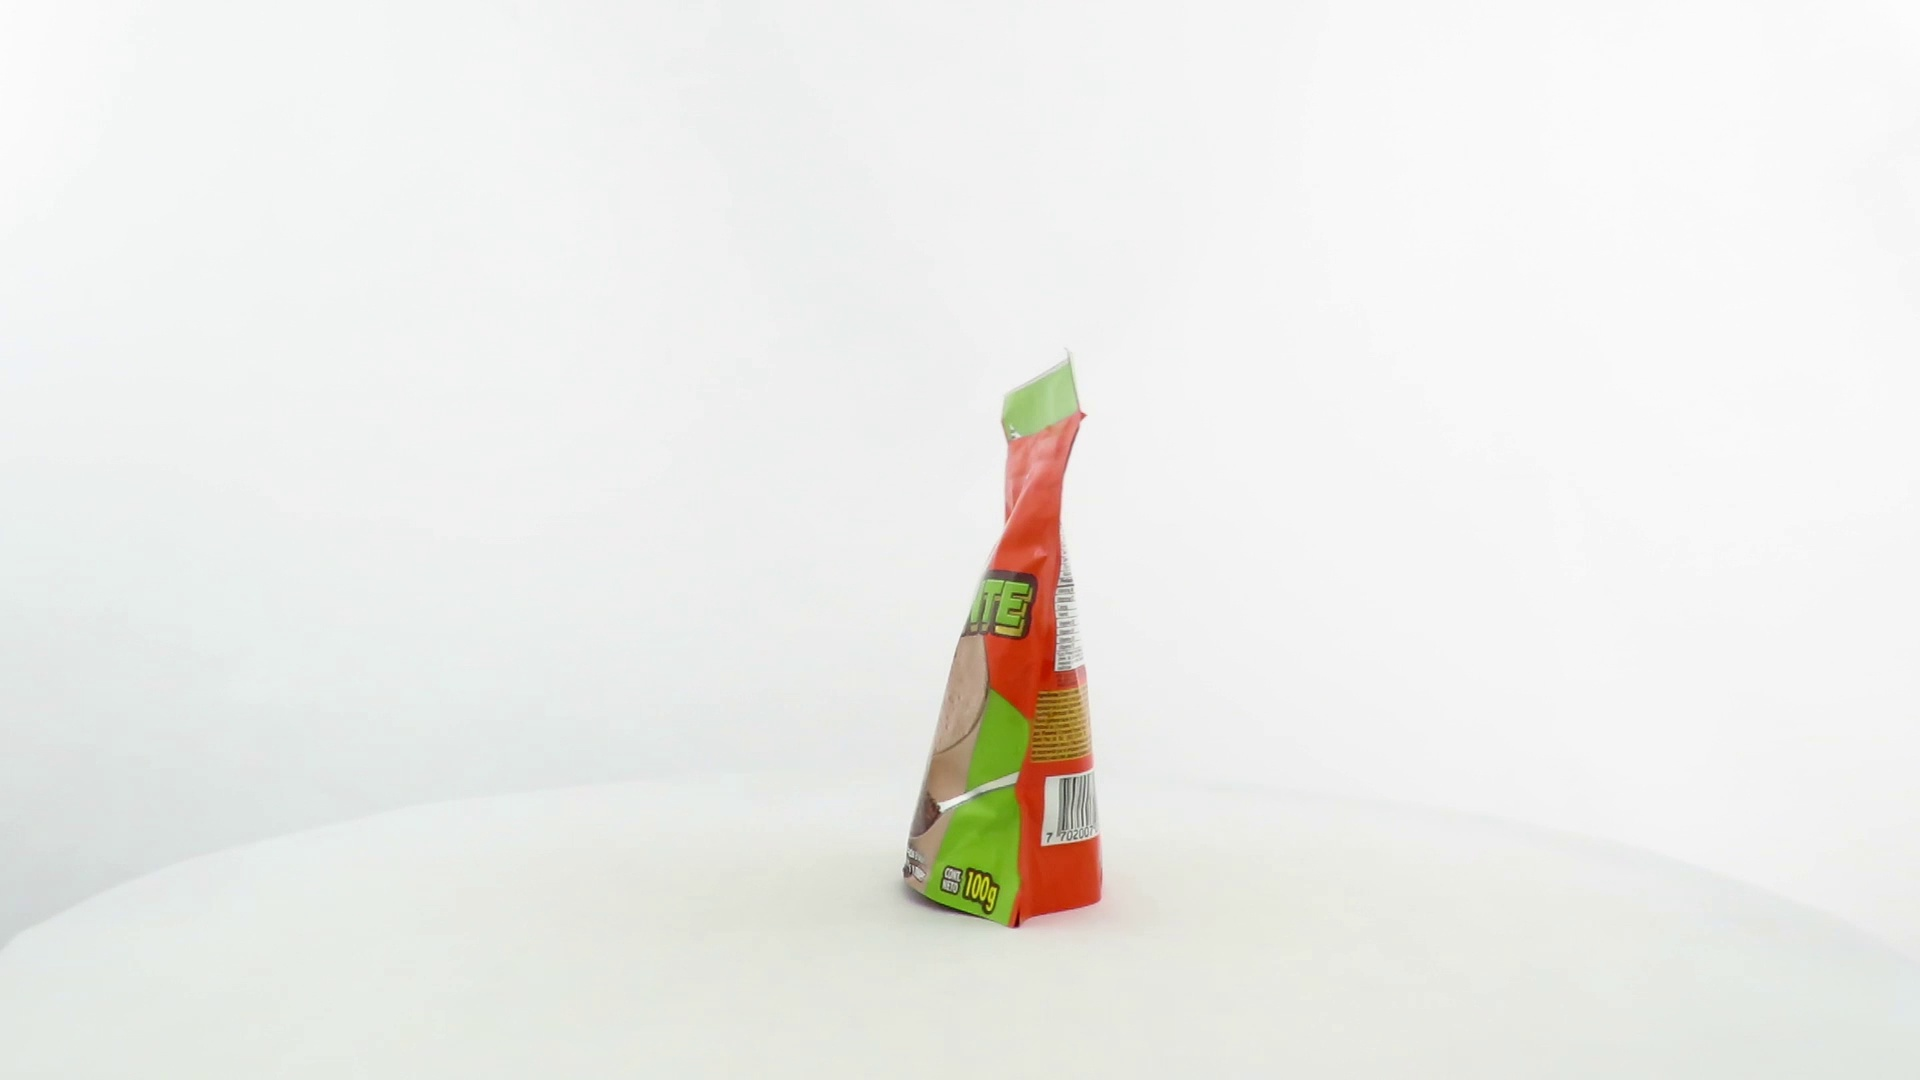COL0170102DYP10000: (897, 389, 1109, 935)
